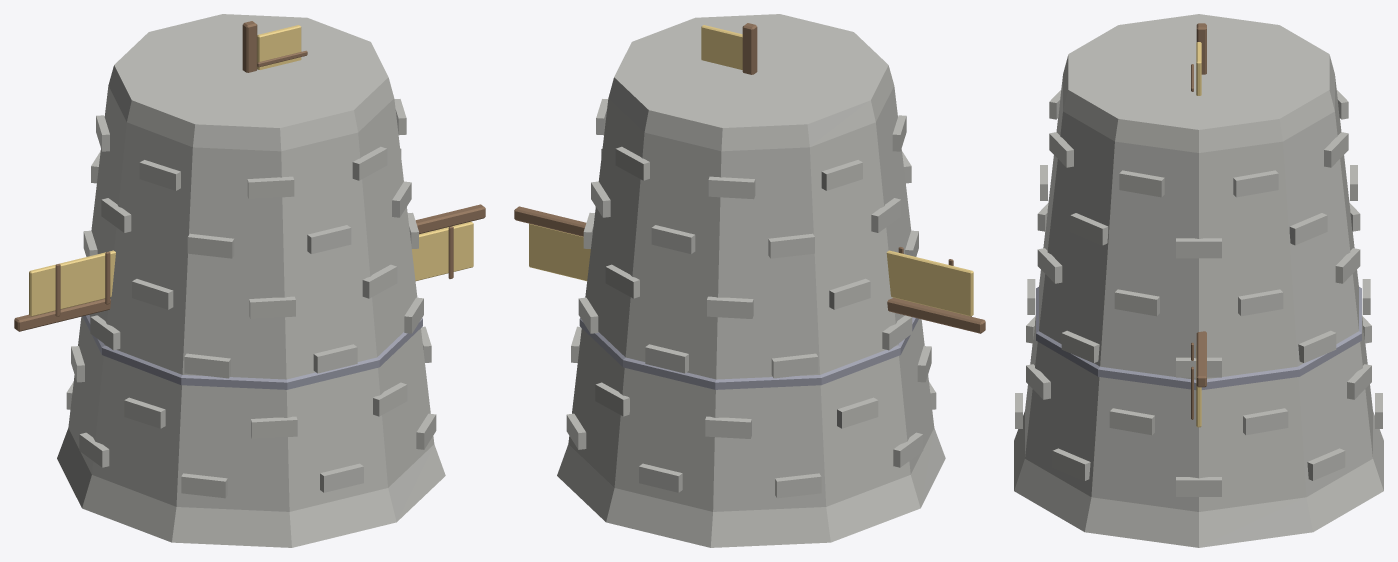
The model's file is town_windmill.glb.
3 renders of one model, left to right at view 1: azimuth 30°, elevation 25°; view 2: azimuth 150°, elevation 25°; view 3: azimuth 270°, elevation 25°, orthographic.
Visible parts, largest first — view 1: world; view 2: world; view 3: world.
Part boxes in pixels (x1,y1,x2,y2): world: (14,14,485,547); world: (514,14,985,547); world: (1014,14,1383,547).
Bounding box in the file's own units: 2 × 2 × 1.38.
